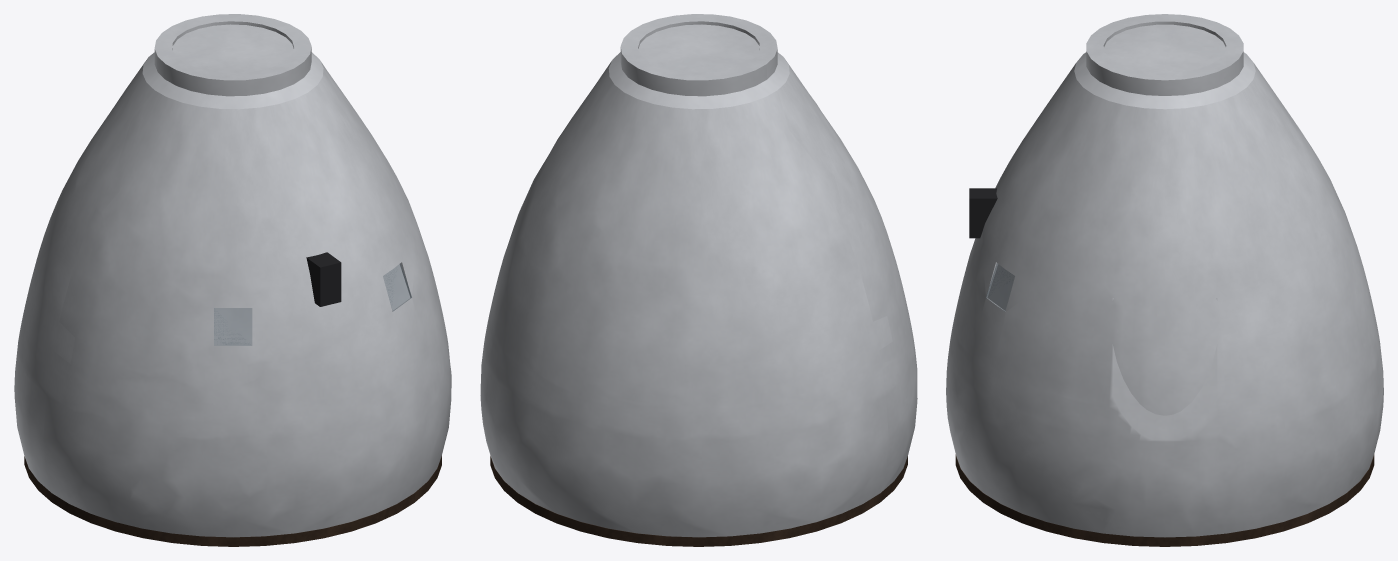
Rendered from cmd04_soyuz_descent.glb.
3 views of the same model, side by side, from view 1: azimuth 30°, elevation 25°; view 2: azimuth 150°, elevation 25°; view 3: azimuth 270°, elevation 25° (orthographic).
Visible parts, largest first — view 1: descent_hull, hatch_ring, heat_shield, windows, periscope; view 2: descent_hull, hatch_ring, heat_shield; view 3: descent_hull, hatch_ring, heat_shield, periscope, windows.
Boxes of the visible parts, x1=… form: descent_hull: x1=14, y1=52, x2=451, y2=537; hatch_ring: x1=154, y1=14, x2=311, y2=96; heat_shield: x1=24, y1=456, x2=441, y2=546; windows: x1=214, y1=263, x2=411, y2=345; periscope: x1=306, y1=252, x2=341, y2=306; descent_hull: x1=480, y1=52, x2=917, y2=537; hatch_ring: x1=620, y1=14, x2=777, y2=96; heat_shield: x1=490, y1=456, x2=907, y2=546; descent_hull: x1=946, y1=52, x2=1383, y2=537; hatch_ring: x1=1086, y1=14, x2=1243, y2=95; heat_shield: x1=955, y1=454, x2=1374, y2=546; periscope: x1=969, y1=188, x2=997, y2=238; windows: x1=986, y1=263, x2=1014, y2=311.
Bounding box in the file's own units: 2.51 × 2.85 × 2.51.
4 materials, 2 textured.
